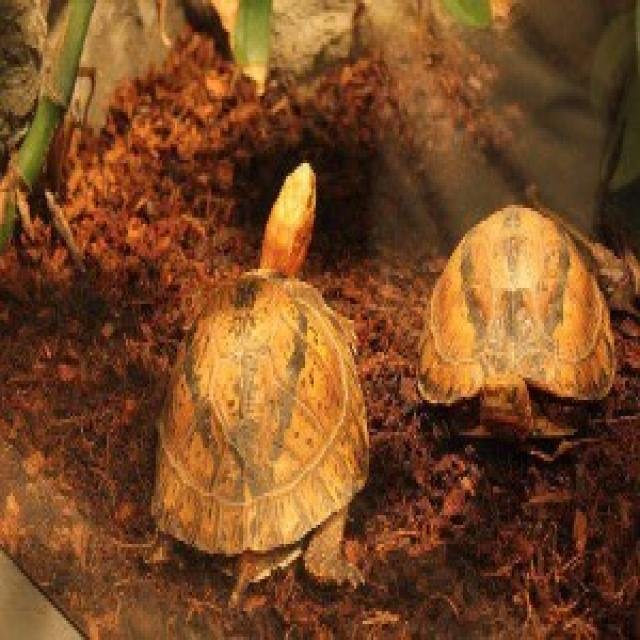Sea turtle: (122, 160, 376, 640), (403, 199, 640, 528)
